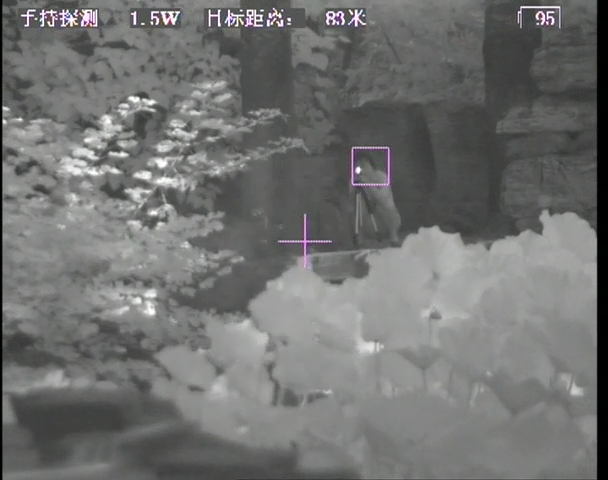my: (352, 164, 364, 175)
